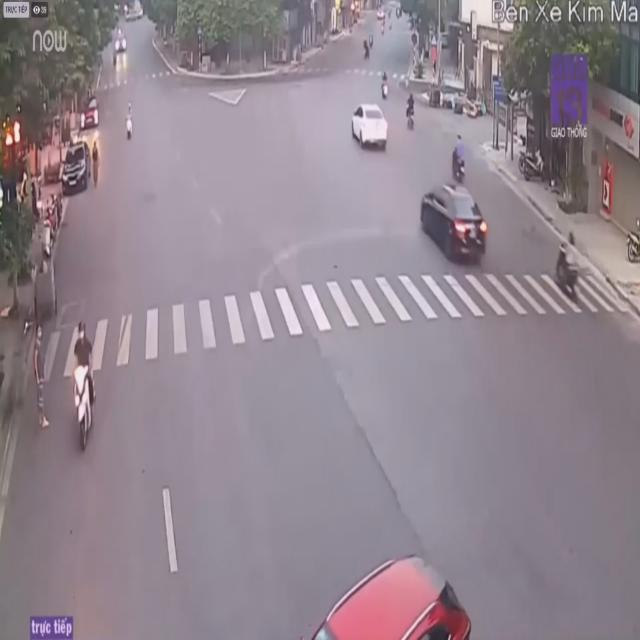car: (278, 548, 488, 638), (419, 185, 486, 268), (350, 103, 391, 155)
motorbike: (70, 321, 95, 447), (556, 228, 585, 305), (449, 132, 468, 186)
